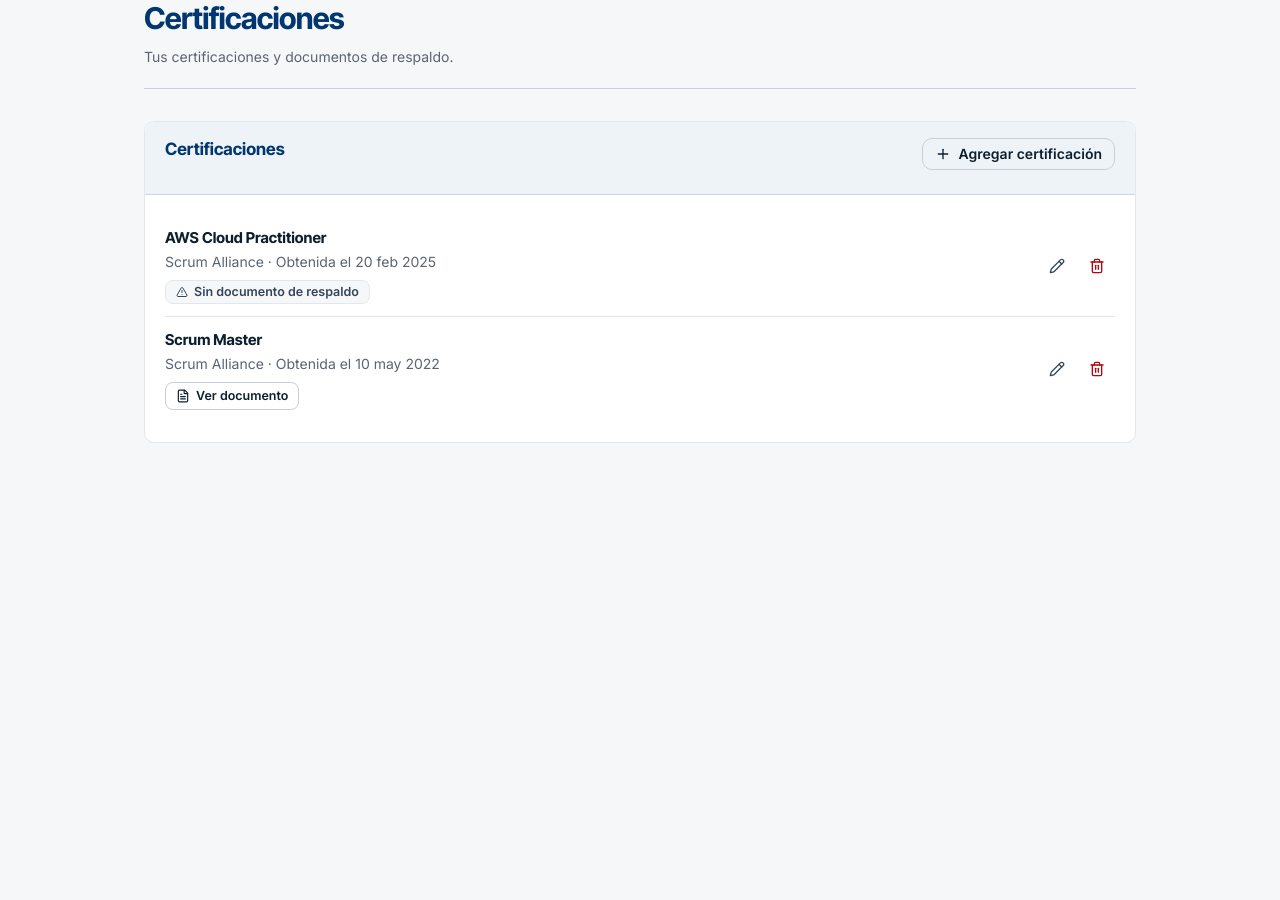
Test: CertificationsView › reloads the saved values when the same record is opened after discarding
Click the button named "Editar Scrum Master": (1057, 369) [1039,351,1075,387]
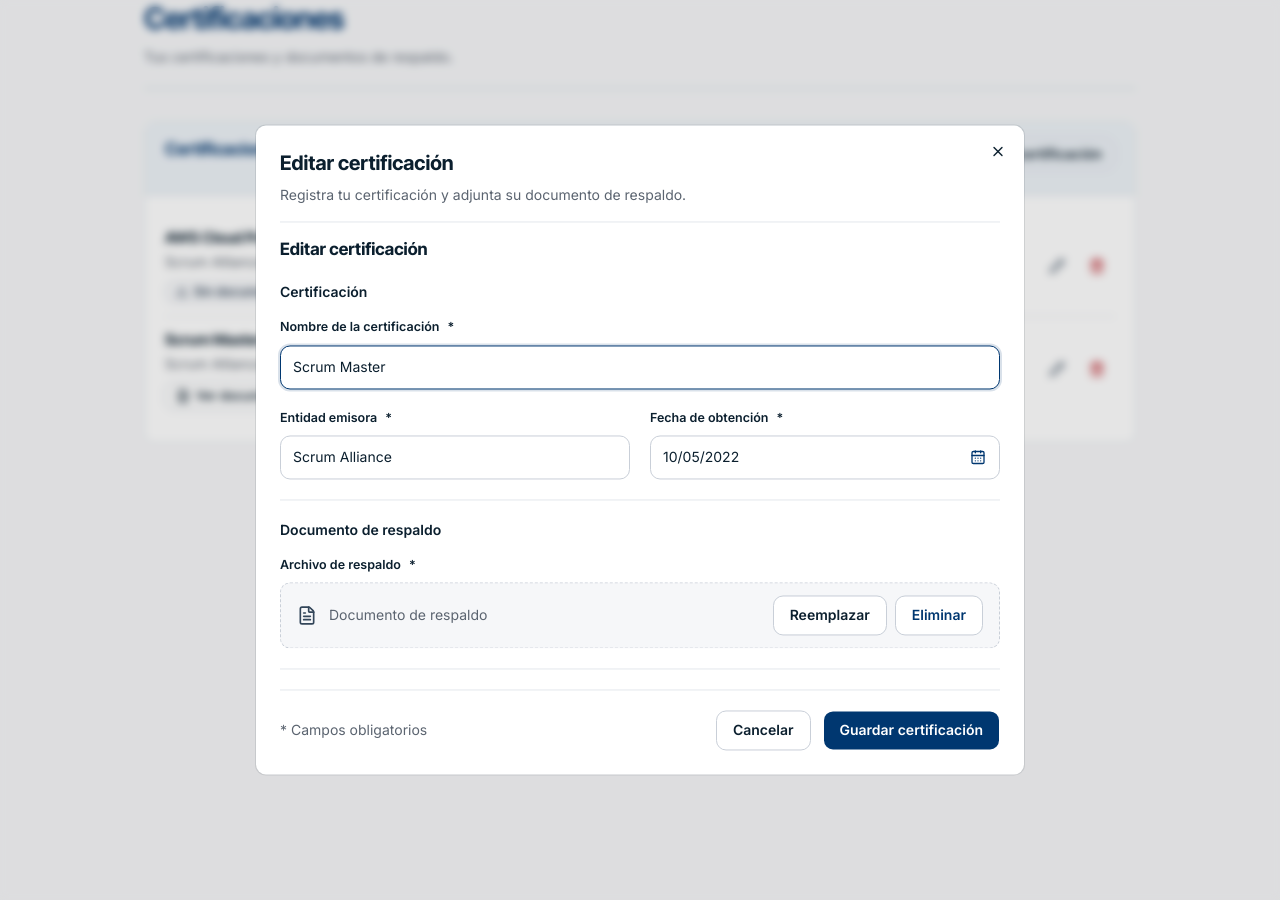
In the field labelled "Nombre de la certificación *": (640, 367) [280,345,1000,389], type " extra"
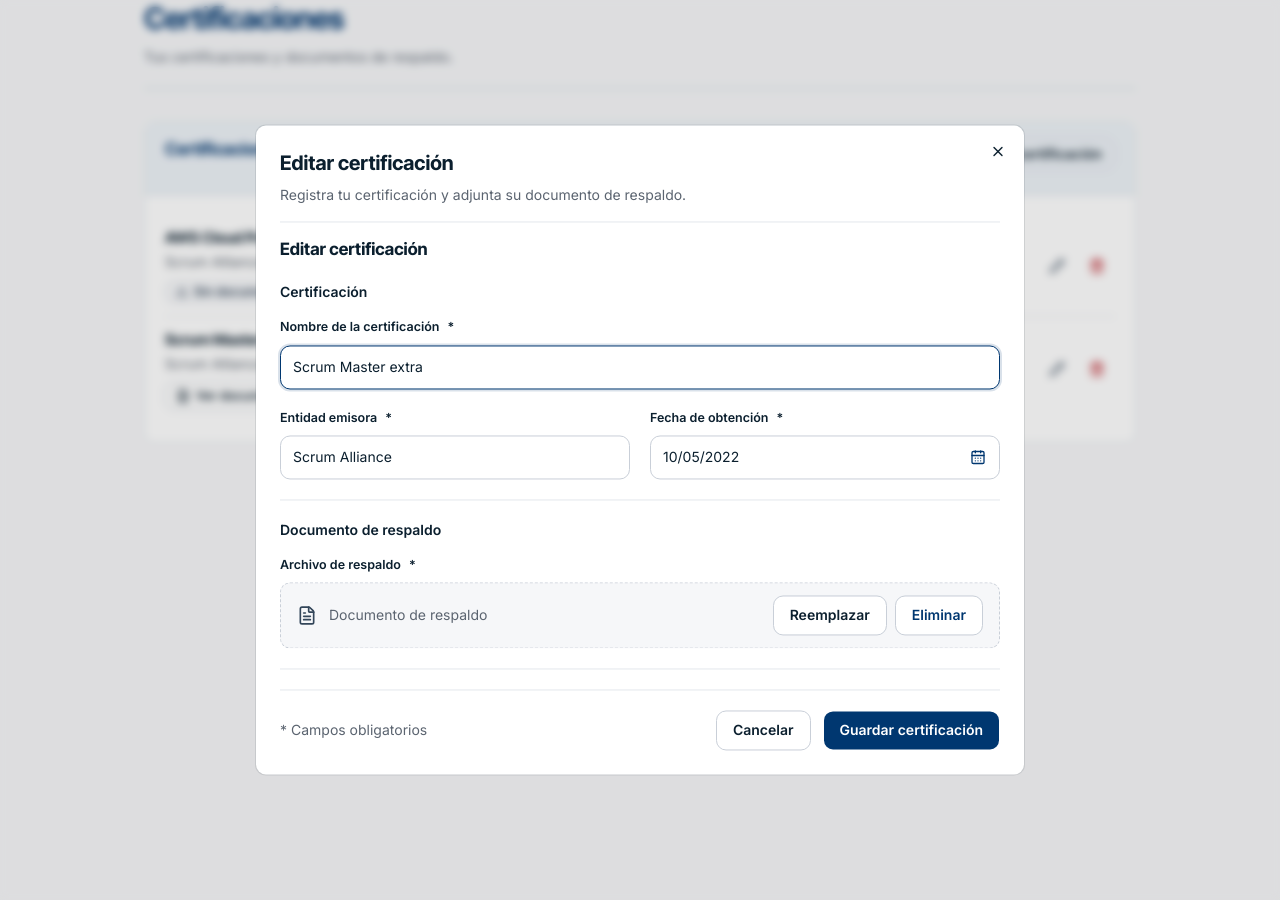
Click the button "Cancelar": (763, 730) [716,710,810,750]
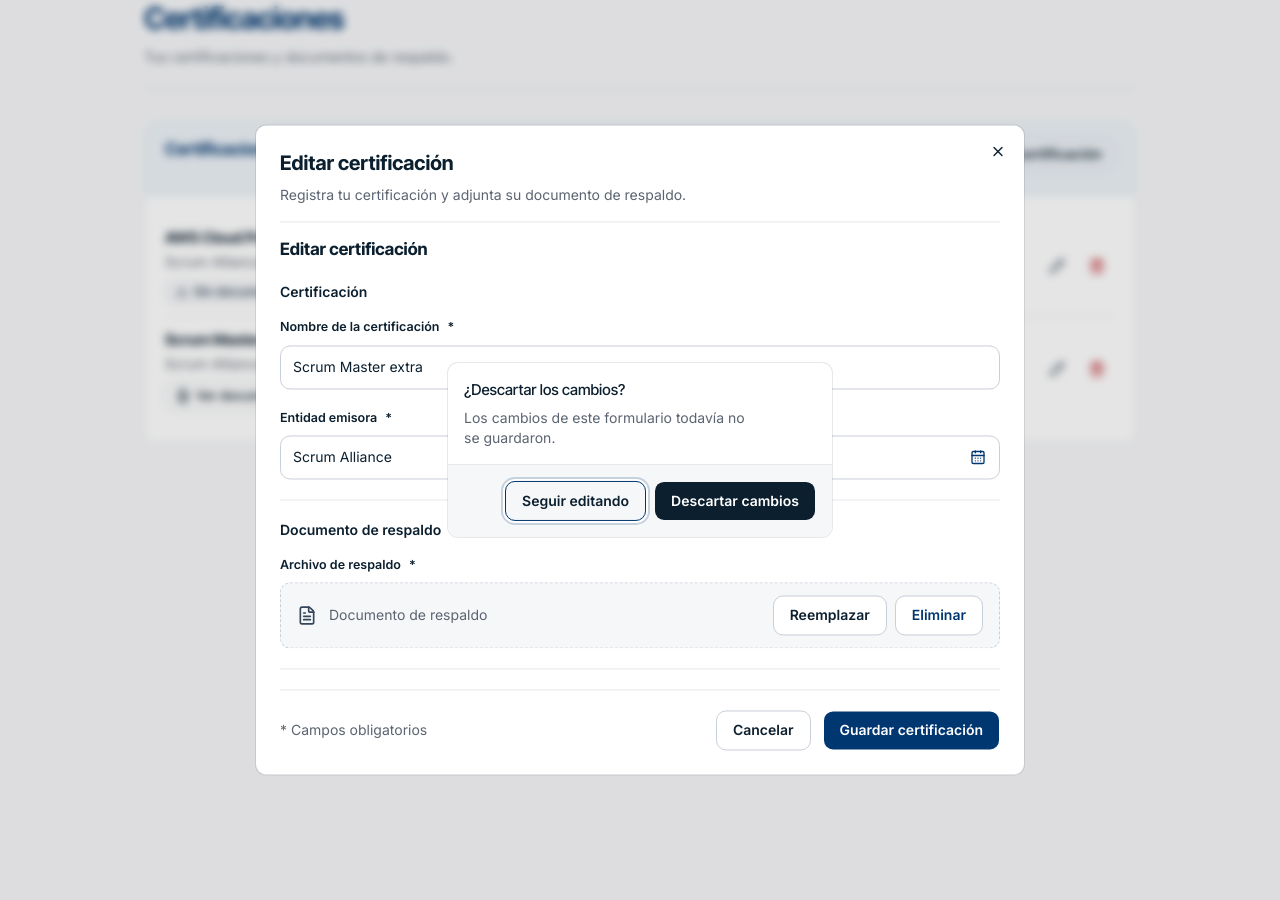
Click the button "Descartar cambios": (735, 501) [654,481,816,521]
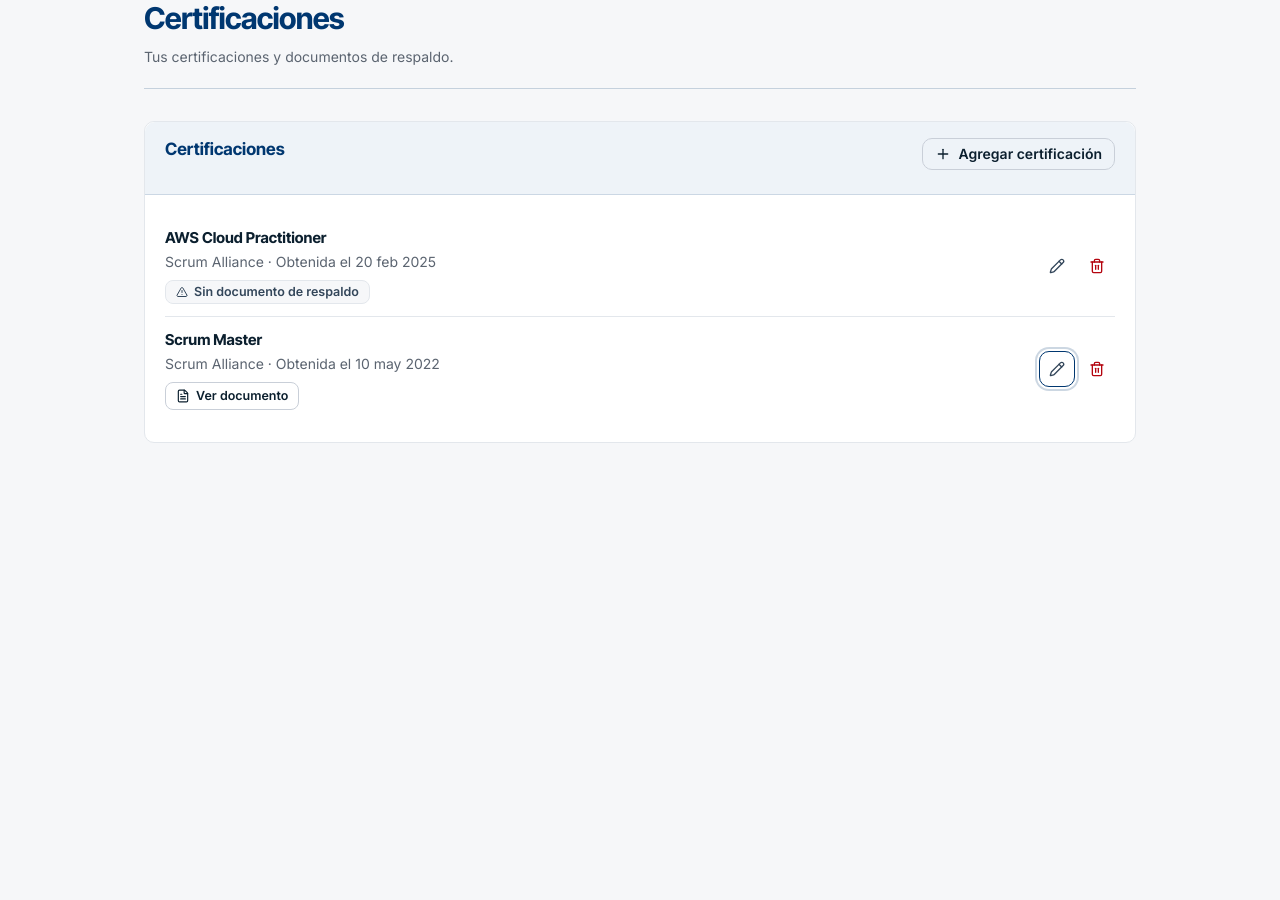
Click the button named "Editar Scrum Master": (1057, 369) [1039,351,1075,387]
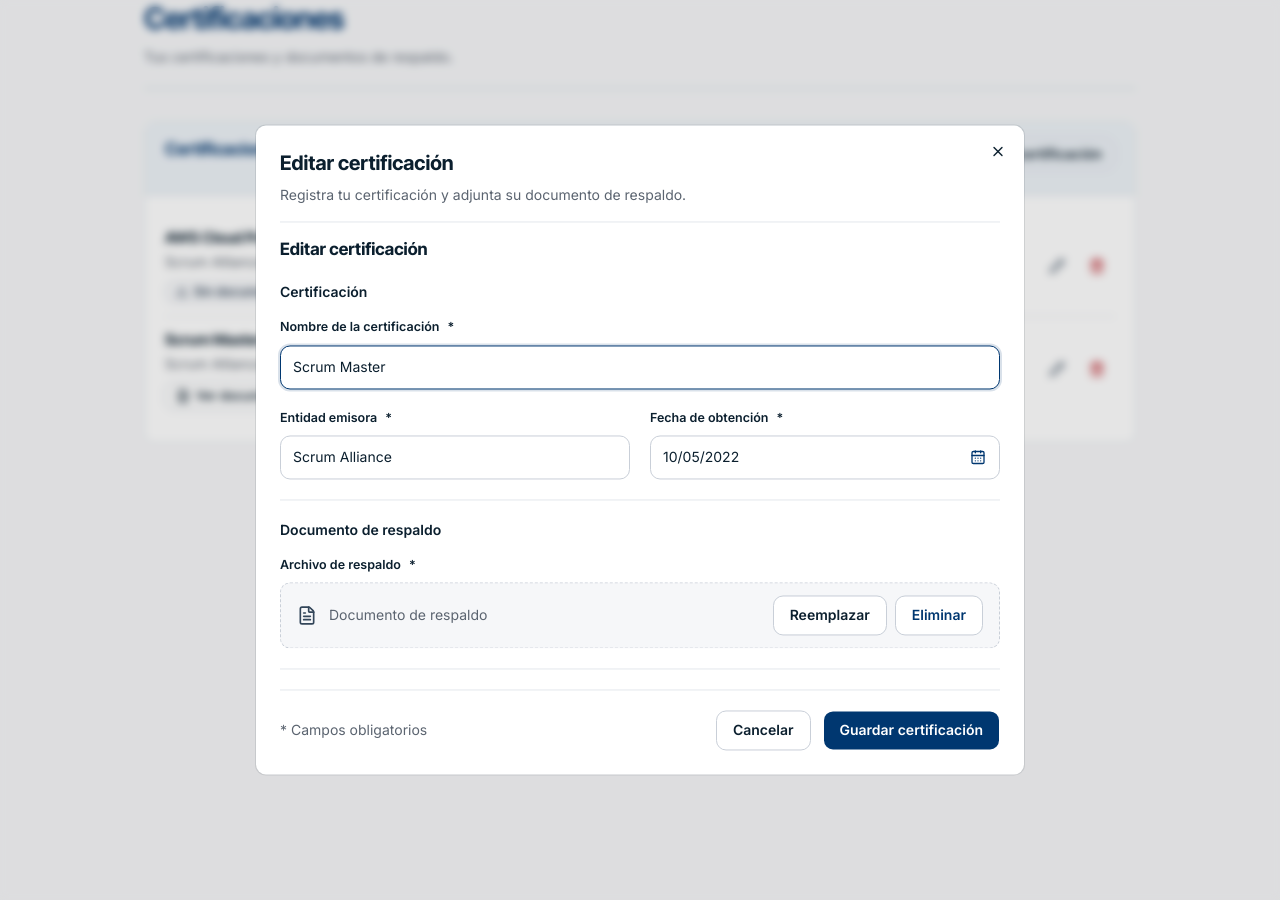
Expected: the field labelled "Nombre de la certificación *" holds "Scrum Master", [280,345,1000,389]
